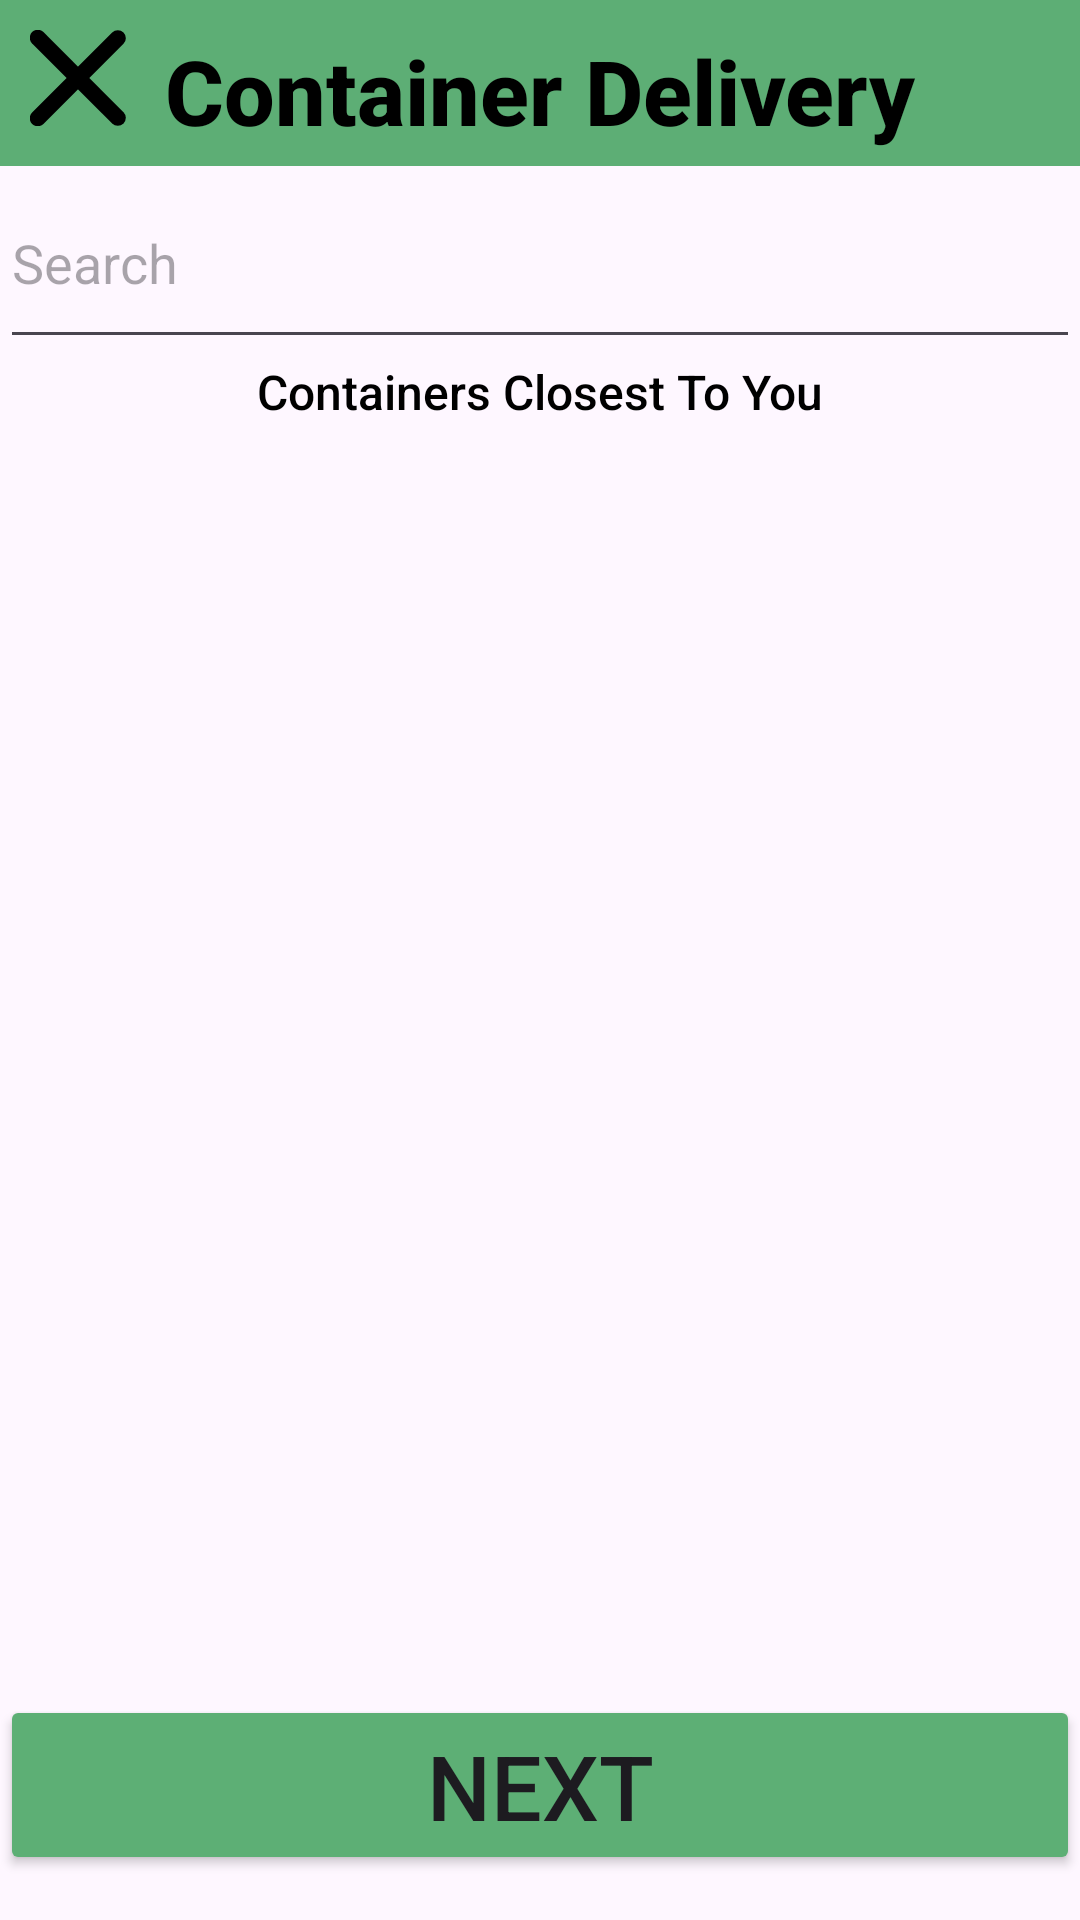

Named icons in this screenshot (1080 x 1920) and their bounding boxes, (x1, y1, x2, y2):
close: (30, 30, 126, 126)
